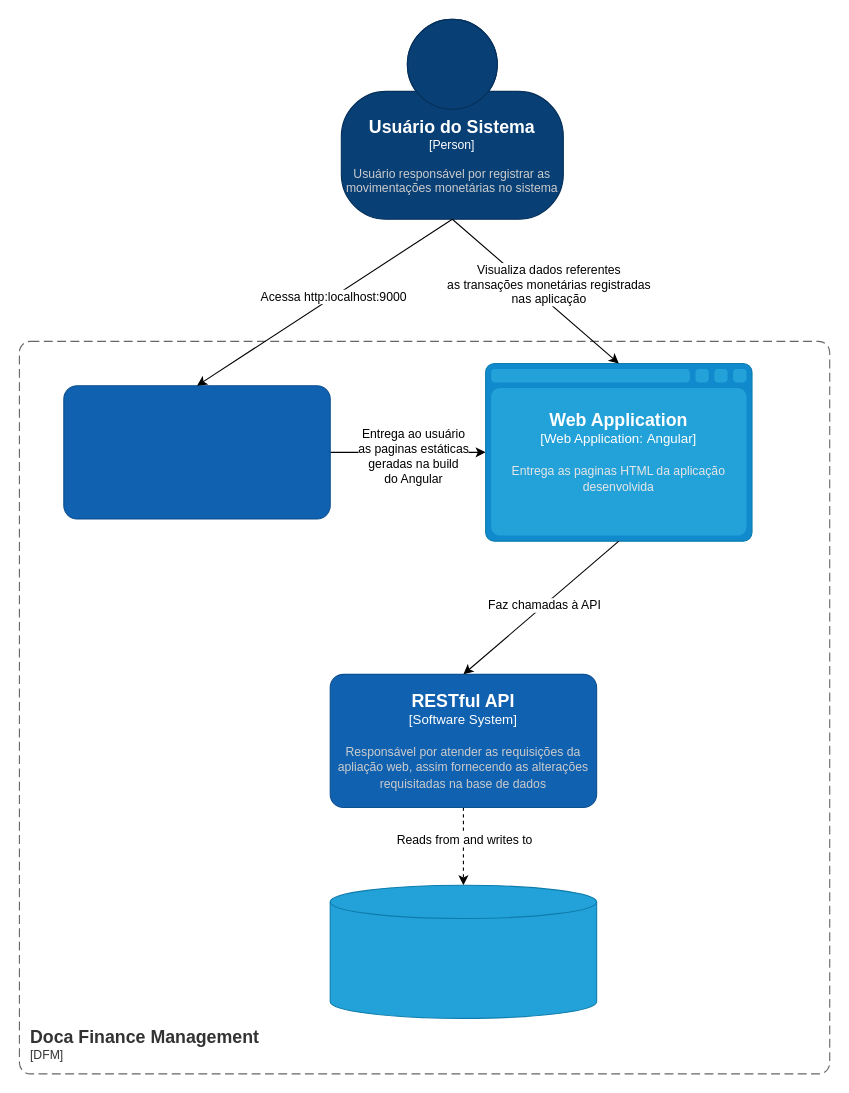
This 849x1093 diagram has some shape labels left out. Here are the shapes that lost their labels. From the top down, the centre of each, then its label:
point 196,452: NGINX [Software System] Serve os statics file
point 463,951: Database [DB: SQLite]
